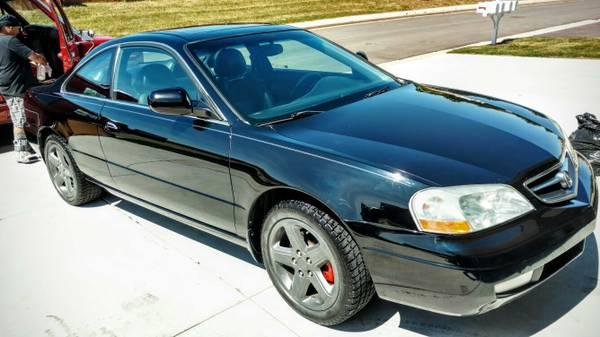acura: (24, 32, 600, 331)
